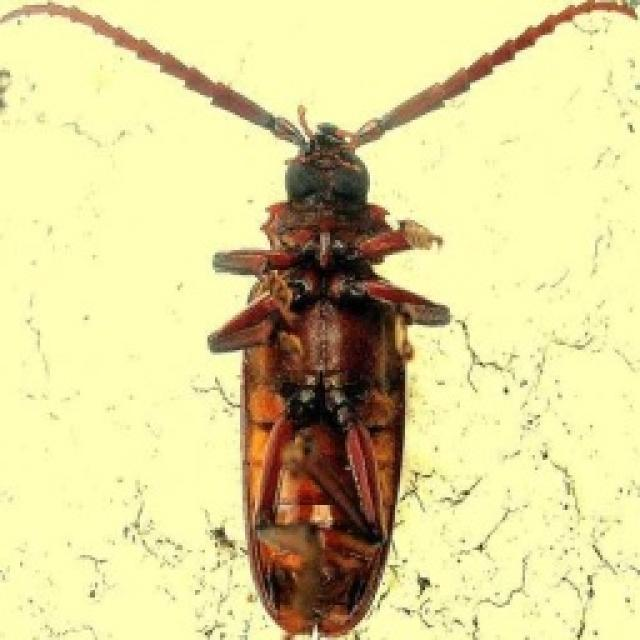cockroach: (173, 113, 493, 640)
